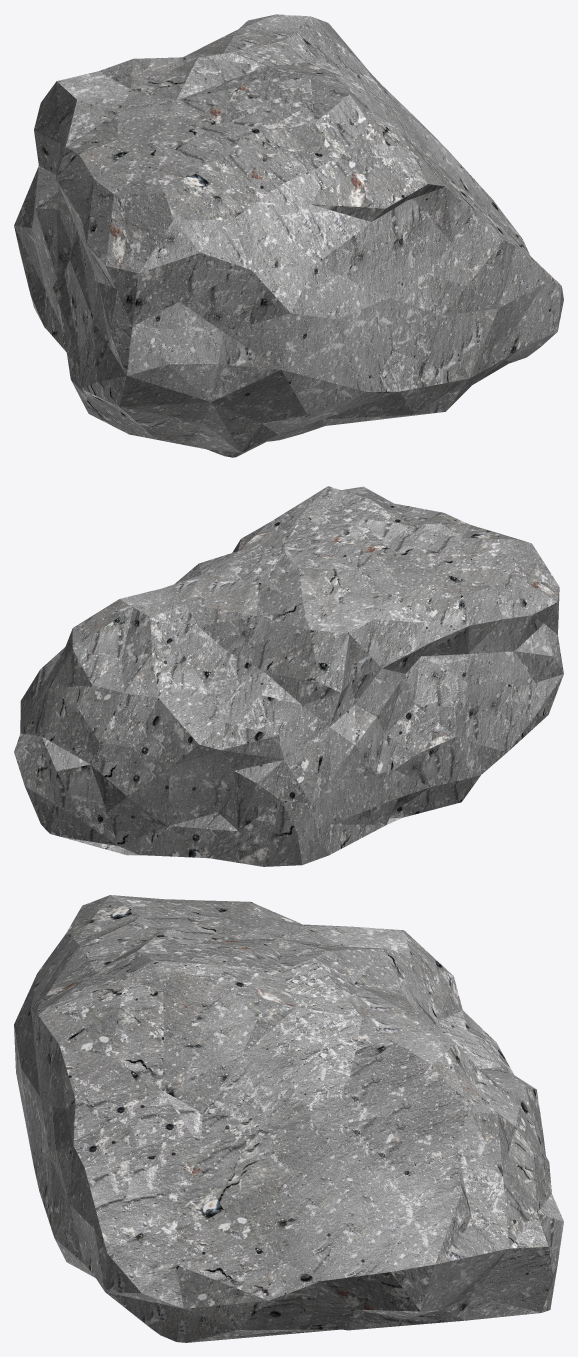
Rendered from rock.dae.
3 renders of one model, top to bottom at view 1: azimuth 30°, elevation 25°; view 2: azimuth 150°, elevation 25°; view 3: azimuth 270°, elevation 25°, orthographic. The views are drawn at different scales.
Parts seen in each view (by area): view 1: skp2F; view 2: skp2F; view 3: skp2F.
Boxes of the visible parts, x1,y1,x2,y2 form: skp2F: (14, 14, 563, 457); skp2F: (14, 486, 563, 866); skp2F: (14, 895, 563, 1342).
Bounding box in the file's own units: 36.22 × 36.82 × 22.07.
Materials: 1 (1 with a texture image).
